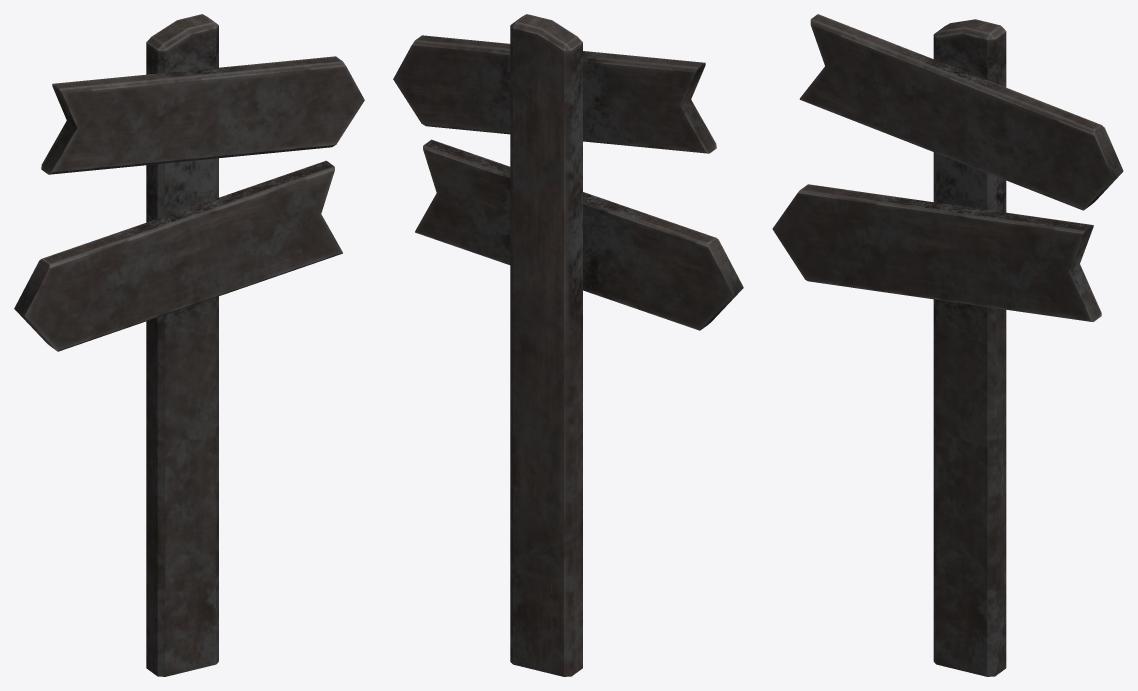
Rendered from road_02.fbx.
3 views of the same model, side by side, from view 1: azimuth 30°, elevation 25°; view 2: azimuth 150°, elevation 25°; view 3: azimuth 330°, elevation 25° (orthographic).
Parts seen in each view (by area): view 1: road_02; view 2: road_02; view 3: road_02.
Part boxes in pixels (x1,y1,x2,y2): road_02: (14,14,364,676); road_02: (393,14,743,676); road_02: (772,14,1123,676).
Bounding box in the file's own units: 5.09 × 9.14 × 0.7141.
Materials: 1 (1 with a texture image).
